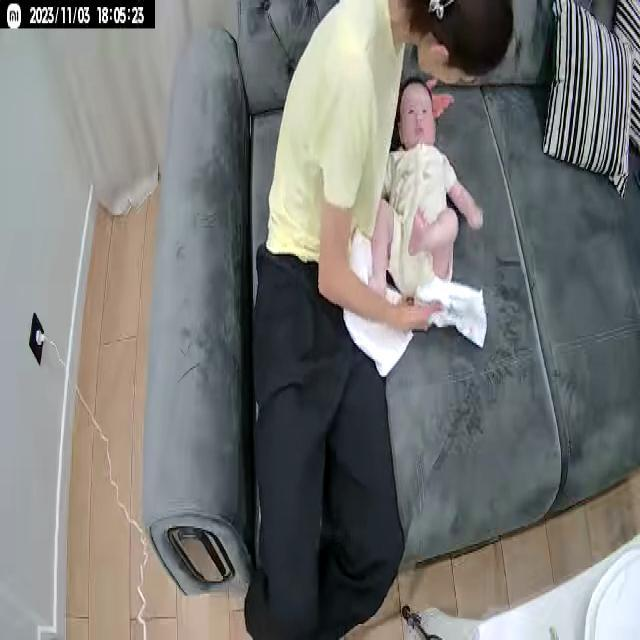baby: (360, 75, 487, 322)
